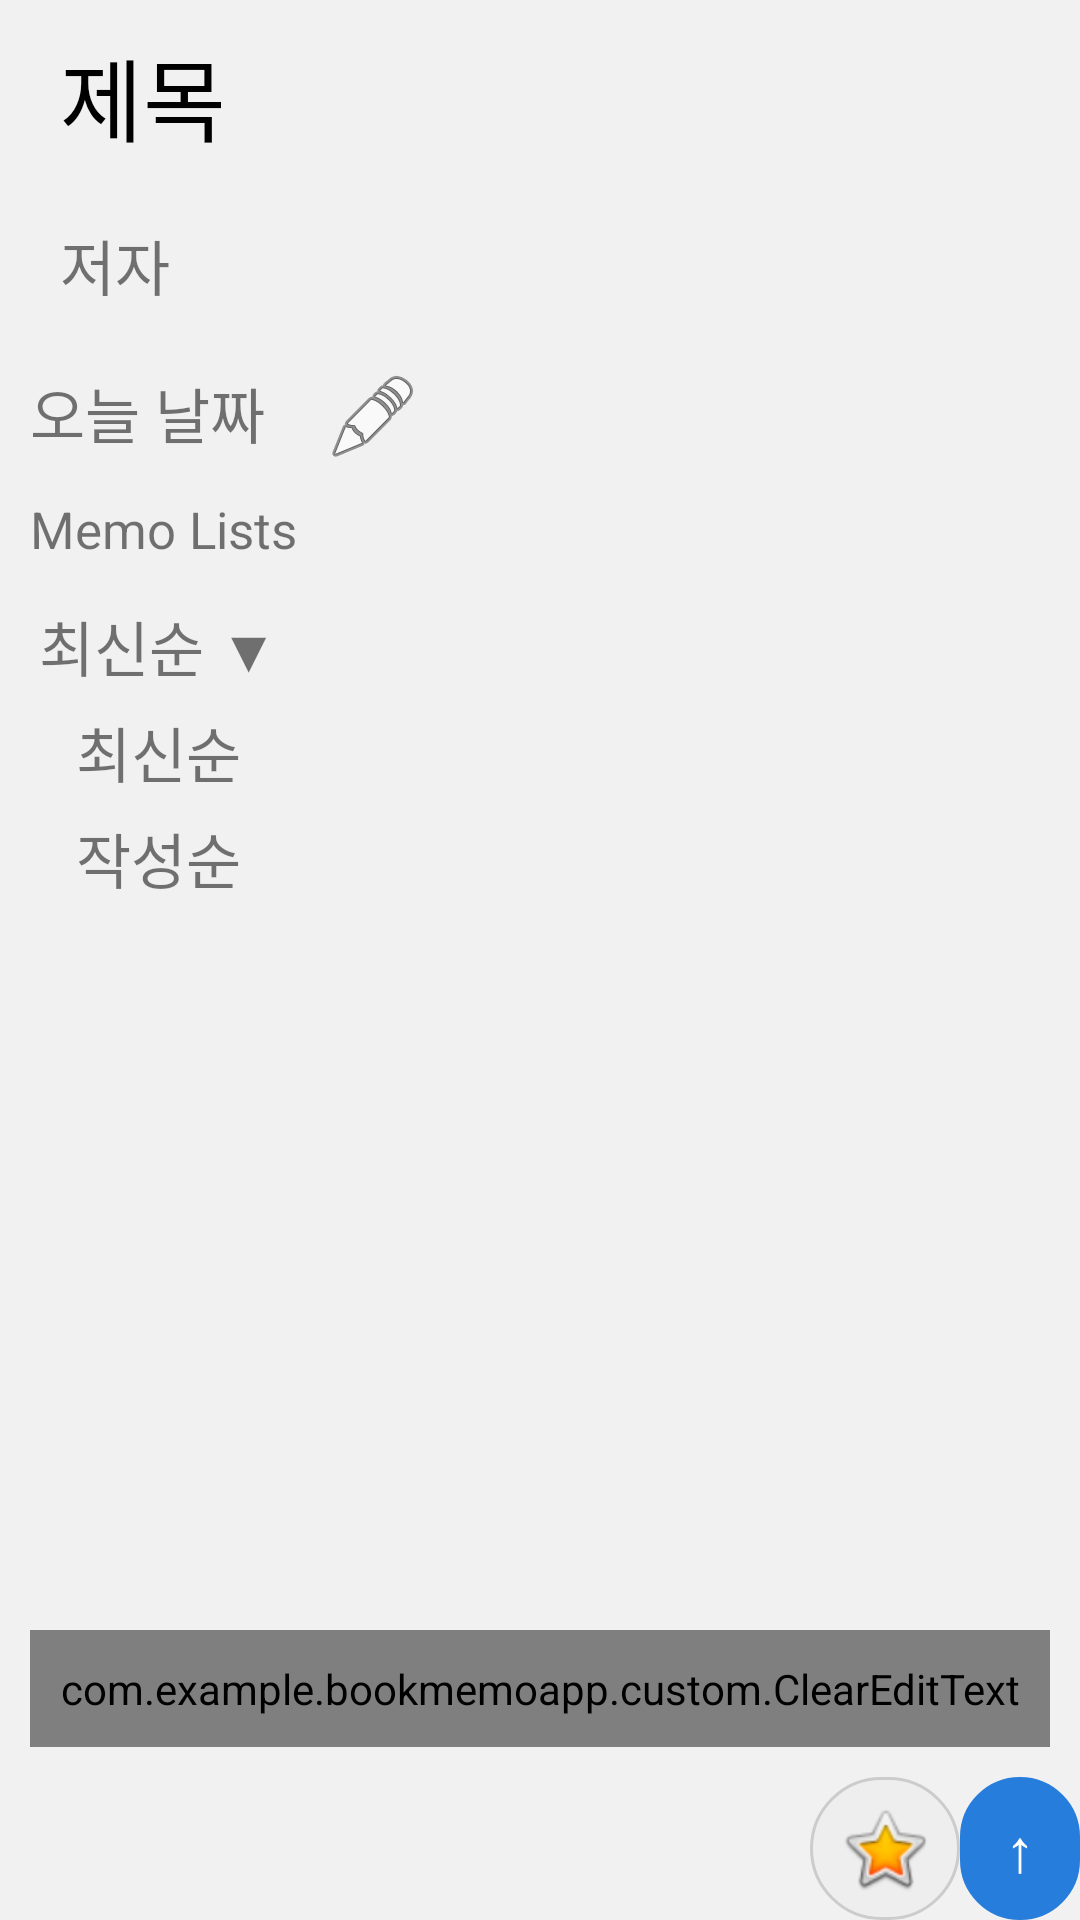

Icon bounding boxes for this 1080 × 1920 phone screenshot, format (x1, y1, x2, y2):
edit: (332, 376, 413, 457)
star on: (846, 1811, 926, 1889)
